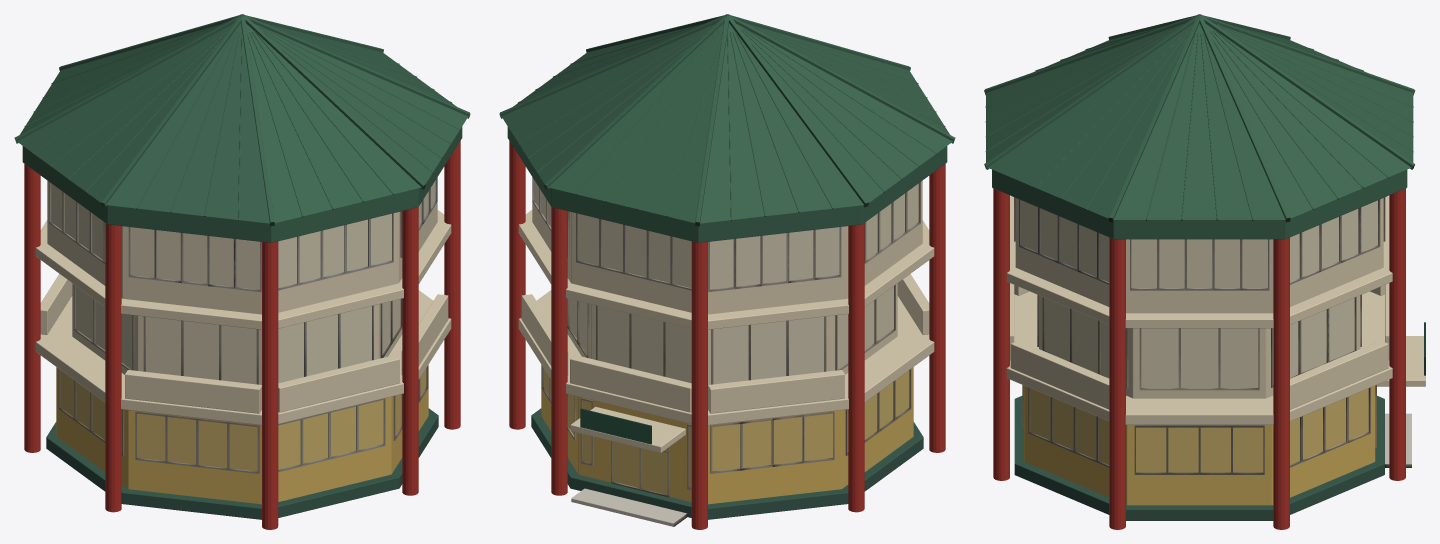
File: SM_Library.glb
The picture shows the model from 3 angles, left to right: view 1: azimuth 30°, elevation 25°; view 2: azimuth 150°, elevation 25°; view 3: azimuth 270°, elevation 25°; orthographic projection.
Parts seen in each view (by area): view 1: SM_Library_LM, SM_Library_NB, SM_Library_VC; view 2: SM_Library_LM, SM_Library_NB, SM_Library_VC; view 3: SM_Library_LM, SM_Library_NB, SM_Library_VC.
Boxes of the visible parts, x1,y1,x2,y2 form: SM_Library_LM: [14, 14, 470, 529]; SM_Library_NB: [51, 181, 435, 470]; SM_Library_VC: [49, 14, 442, 473]; SM_Library_LM: [499, 14, 955, 529]; SM_Library_NB: [534, 181, 918, 494]; SM_Library_VC: [527, 14, 920, 526]; SM_Library_LM: [984, 14, 1425, 529]; SM_Library_NB: [1021, 201, 1377, 472]; SM_Library_VC: [984, 14, 1425, 474].
Bounding box in the file's own units: 14.98 × 16.39 × 15.35.
